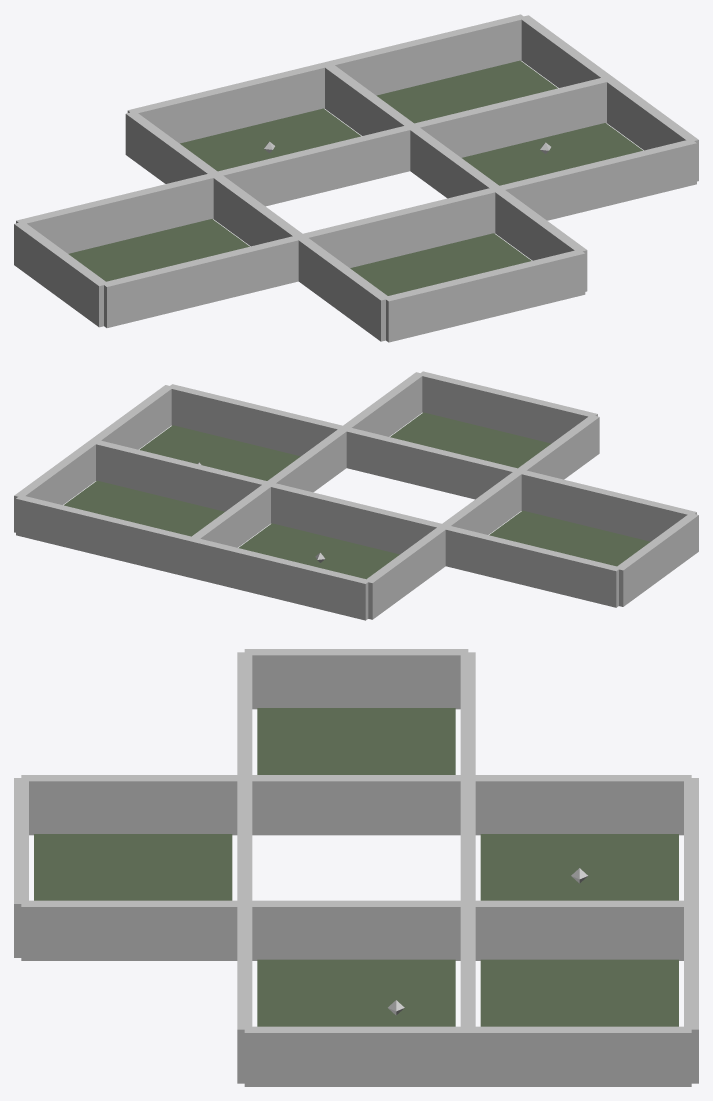
File: layout_main.obj
3 views of the same model, one above another, from view 1: azimuth 30°, elevation 25°; view 2: azimuth 150°, elevation 25°; view 3: azimuth 270°, elevation 25° (orthographic). The views are drawn at different scales.
Parts seen in each view (by area): view 1: loot_1, walls, floors; view 2: loot_1, walls, floors; view 3: loot_1, floors, walls.
Boxes of the visible parts, bbox=[...] form: loot_1: bbox=[264, 14, 698, 342]; walls: bbox=[14, 62, 416, 327]; floors: bbox=[68, 60, 642, 295]; loot_1: bbox=[14, 371, 599, 577]; walls: bbox=[189, 469, 698, 620]; floors: bbox=[64, 412, 650, 579]; loot_1: bbox=[14, 775, 698, 1086]; floors: bbox=[34, 708, 678, 1026]; walls: bbox=[237, 649, 698, 960].
Size of the model in its own units: 36.6 by 2.45 by 27.6.
